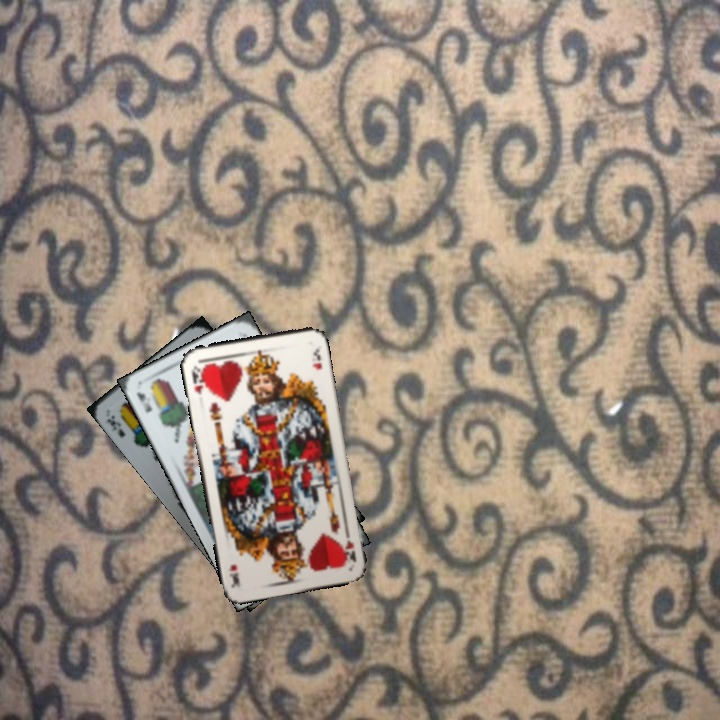EK: (102, 411, 128, 440), (133, 388, 155, 415)
HK: (340, 526, 359, 565), (188, 362, 208, 397)
